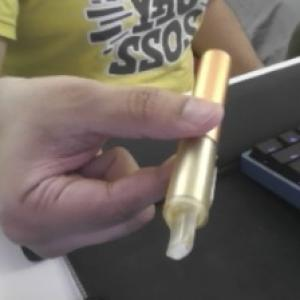Golden-E-Ciggirate: (161, 47, 234, 265)
